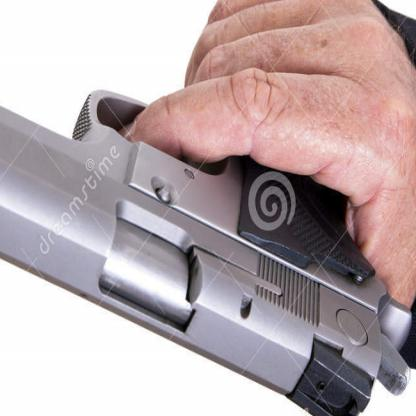gun: (0, 56, 414, 415)
